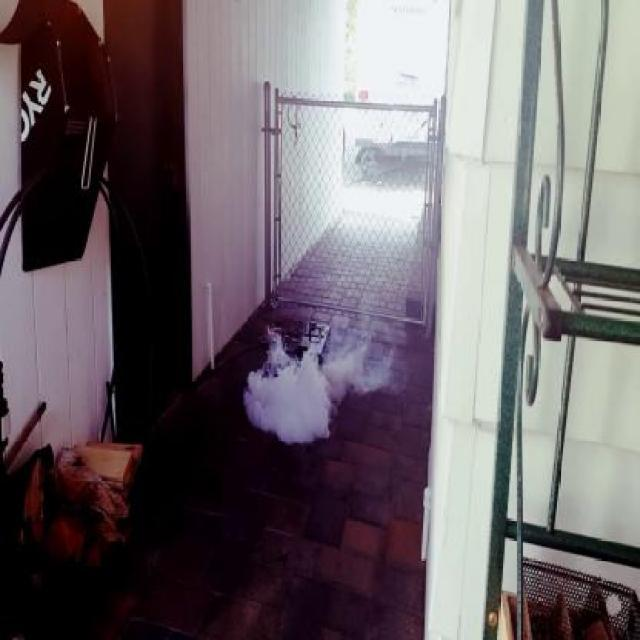smoke: (248, 324, 390, 446)
